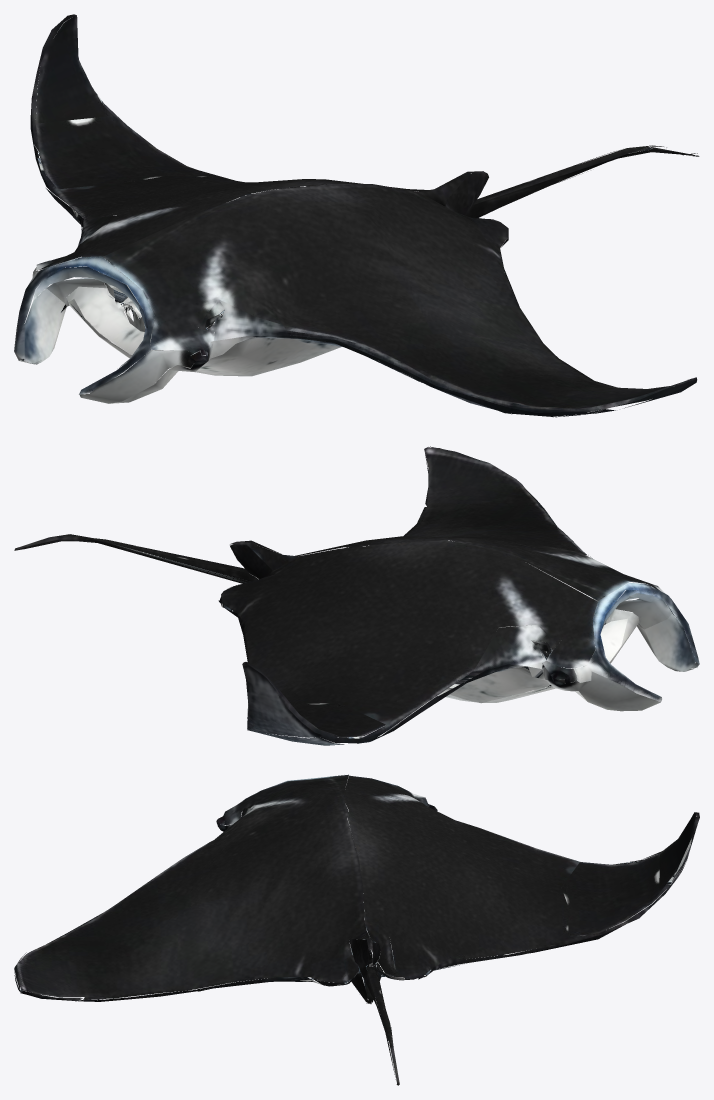
The model's file is arraia.glb.
The picture shows the model from 3 angles, top to bottom: view 1: azimuth 30°, elevation 25°; view 2: azimuth 150°, elevation 25°; view 3: azimuth 270°, elevation 25°; orthographic projection. The views are drawn at different scales.
Visible parts, largest first — view 1: geometry_0; view 2: geometry_0; view 3: geometry_0.
Boxes of the visible parts, <box> form: geometry_0: <box>14,14,699,417</box>; geometry_0: <box>14,446,699,745</box>; geometry_0: <box>14,774,699,1085</box>.
Bounding box in the file's own units: 2.91 × 0.6892 × 3.
1 material, 1 textured.
